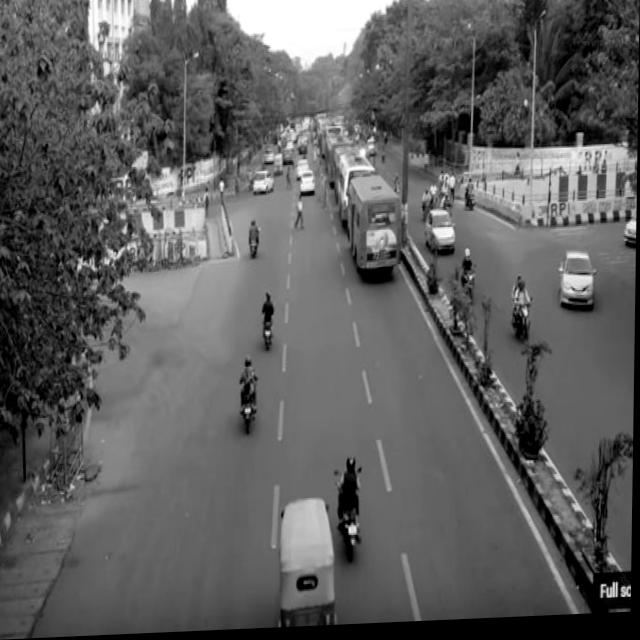cleat: (112, 122, 638, 636)
